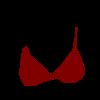reggiseno: (19, 27, 85, 86)
